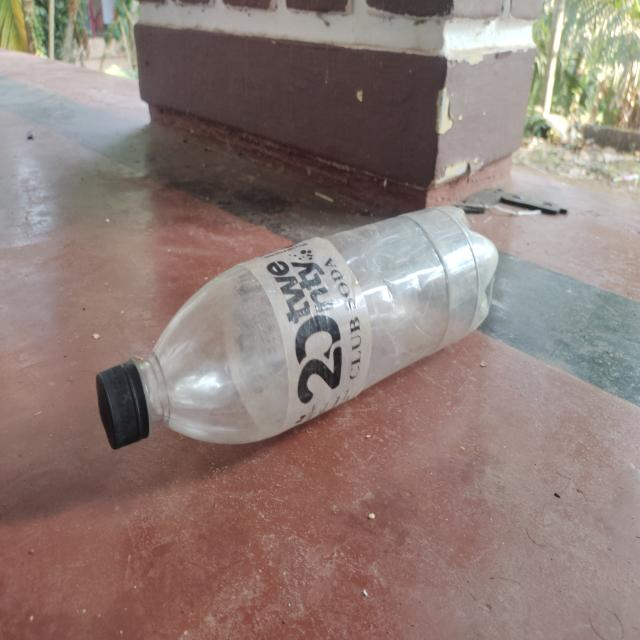plastic: (96, 204, 501, 470)
